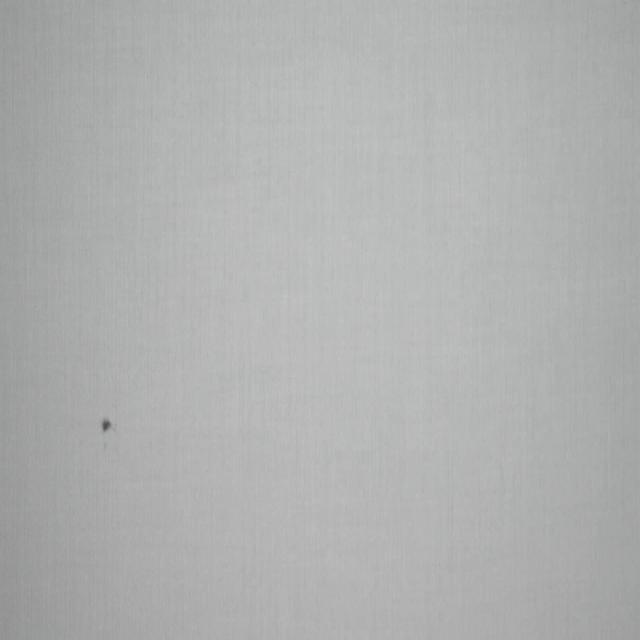dirty: (102, 418, 115, 434), (104, 443, 108, 448)
